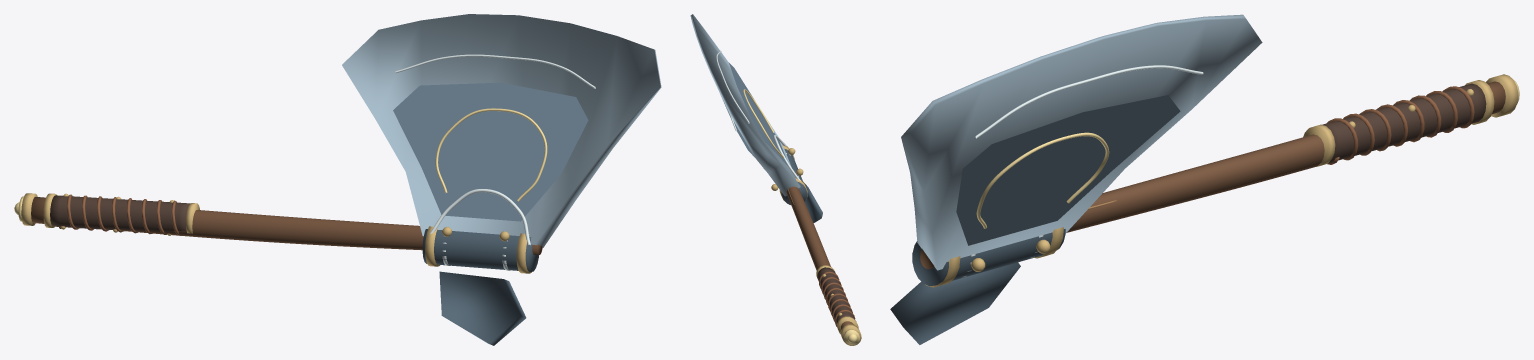
File: axe_crescent.glb
3 views of the same model, side by side, from view 1: azimuth 30°, elevation 25°; view 2: azimuth 150°, elevation 25°; view 3: azimuth 270°, elevation 25° (orthographic). The views are drawn at different scales.
Visible parts, largest first — view 1: Crescent blade | one-piece forged steel, Blade | concave inner forge panel, Handle | sculpted dark ash, Poll | compact hammered counterweight, Grip | rich dark leather, Head | blackened forged socket, Grip | spiral leather lacing, Etched gold | forged crescent filigree, Forged spine | central silver channel, Hollow grind | steel light-catching line; view 2: Crescent blade | one-piece forged steel, Handle | sculpted dark ash, Blade | concave inner forge panel, Grip | rich dark leather, Grip | spiral leather lacing, Poll | compact hammered counterweight, Head | blackened forged socket, Etched gold | forged crescent filigree, Pommel | cast brass lower rim, Forged spine | central silver channel, Hollow grind | steel light-catching line, Grip | lower brass collar (+1 smaller); view 3: Crescent blade | one-piece forged steel, Blade | concave inner forge panel.001, Handle | sculpted dark ash, Poll | compact hammered counterweight, Grip | rich dark leather, Head | blackened forged socket, Grip | spiral leather lacing, Etched gold | forged crescent filigree.001, Hollow grind | steel light-catching line.001, Pommel | cast brass lower rim, Grip | upper brass collar.
Boxes of the visible parts, bbox=[...] form: Crescent blade | one-piece forged steel: bbox=[342, 14, 661, 247]; Blade | concave inner forge panel: bbox=[393, 82, 588, 221]; Handle | sculpted dark ash: bbox=[31, 197, 542, 254]; Poll | compact hammered counterweight: bbox=[439, 271, 526, 345]; Grip | rich dark leather: bbox=[50, 195, 189, 231]; Head | blackened forged socket: bbox=[422, 229, 538, 271]; Grip | spiral leather lacing: bbox=[59, 194, 180, 235]; Etched gold | forged crescent filigree: bbox=[435, 108, 547, 201]; Forged spine | central silver channel: bbox=[430, 189, 530, 245]; Hollow grind | steel light-catching line: bbox=[395, 54, 595, 88]; Crescent blade | one-piece forged steel: bbox=[690, 14, 800, 196]; Handle | sculpted dark ash: bbox=[786, 186, 853, 329]; Blade | concave inner forge panel: bbox=[729, 63, 790, 169]; Grip | rich dark leather: bbox=[817, 267, 854, 325]; Grip | spiral leather lacing: bbox=[819, 271, 855, 327]; Poll | compact hammered counterweight: bbox=[803, 182, 822, 222]; Head | blackened forged socket: bbox=[781, 149, 807, 204]; Etched gold | forged crescent filigree: bbox=[743, 89, 783, 157]; Pommel | cast brass lower rim: bbox=[840, 324, 861, 345]; Forged spine | central silver channel: bbox=[773, 135, 800, 180]; Hollow grind | steel light-catching line: bbox=[716, 50, 749, 123]; Grip | lower brass collar: bbox=[837, 316, 858, 334]; Crescent blade | one-piece forged steel: bbox=[901, 14, 1262, 270]; Blade | concave inner forge panel.001: bbox=[956, 95, 1180, 245]; Handle | sculpted dark ash: bbox=[920, 81, 1505, 269]; Poll | compact hammered counterweight: bbox=[890, 262, 1020, 344]; Grip | rich dark leather: bbox=[1322, 83, 1486, 162]; Head | blackened forged socket: bbox=[912, 229, 1065, 286]; Grip | spiral leather lacing: bbox=[1326, 86, 1474, 164]; Etched gold | forged crescent filigree.001: bbox=[976, 132, 1109, 228]; Hollow grind | steel light-catching line.001: bbox=[975, 65, 1203, 138]; Pommel | cast brass lower rim: bbox=[1486, 74, 1518, 117]; Grip | upper brass collar: bbox=[1303, 124, 1335, 166].
Size of the model in its own units: 0.7607 by 0.4351 by 0.6684.
